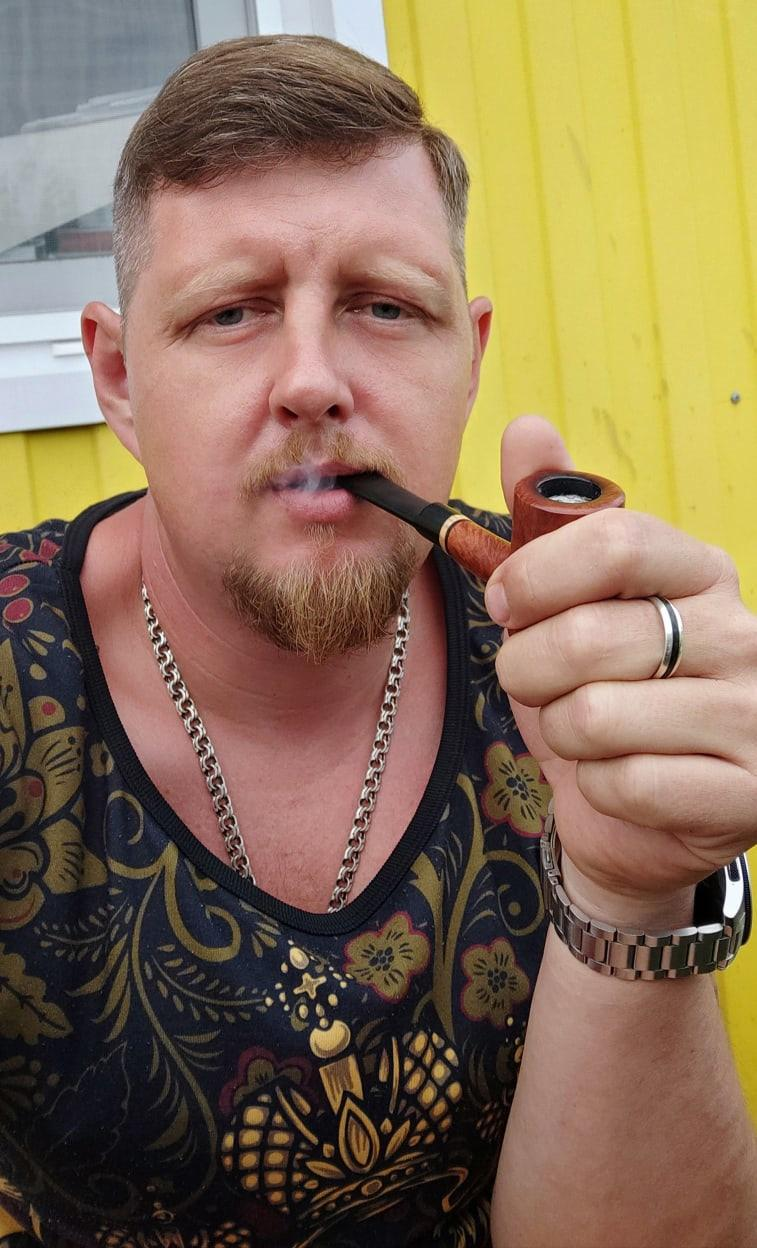trubka: (333, 466, 631, 581)
